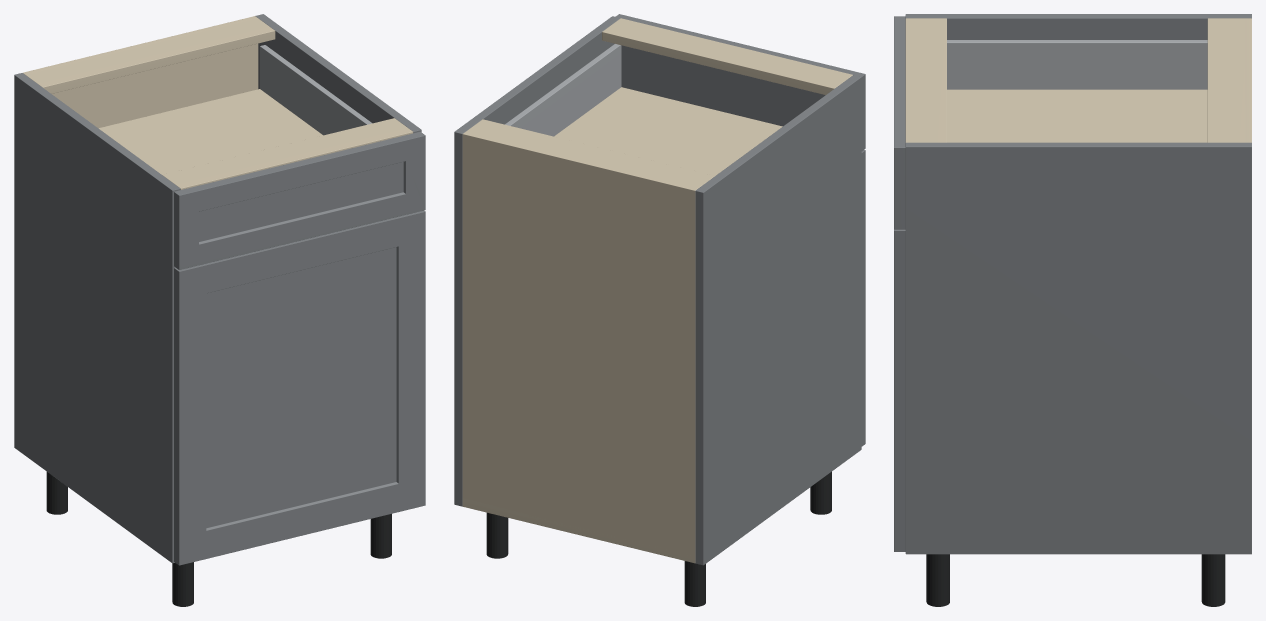
File: oppein-ply-gss-b21.glb
The picture shows the model from 3 angles, left to right: view 1: azimuth 30°, elevation 25°; view 2: azimuth 150°, elevation 25°; view 3: azimuth 270°, elevation 25°; orthographic projection. The views are drawn at different scales.
Parts seen in each view (by area): view 1: Door, Cabinet side, Drawer front, Drawer floor, Cabinet back, Top support rail, Top support rail.001, Drawer side.001, Cabinet side.001, Adjustable foot.001, Adjustable foot.003, Adjustable foot; view 2: Cabinet back, Cabinet side, Drawer floor, Drawer front, Cabinet side.001, Top support rail.001, Drawer side.001, Top support rail, Cabinet bottom, Door, Adjustable foot.002, Adjustable foot (+1 smaller); view 3: Cabinet side.001, Drawer floor, Drawer side, Cabinet side, Top support rail.001, Top support rail, Door, Drawer front, Adjustable foot.002, Adjustable foot.003, Cabinet back.
Part boxes in pixels (x1,y1,x2,y2): Door: (174,210,425,565); Cabinet side: (14,73,180,563); Drawer front: (174,131,425,269); Drawer floor: (99,89,322,174); Cabinet back: (23,16,258,128); Top support rail: (24,18,275,93); Top support rail.001: (162,118,413,189); Drawer side.001: (260,45,372,135); Cabinet side.001: (255,14,421,133); Adjustable foot.001: (172,562,193,606); Adjustable foot.003: (370,514,391,558); Adjustable foot: (46,472,67,514); Cabinet back: (462,132,697,562); Cabinet side: (695,75,861,565); Drawer floor: (554,87,782,175); Drawer front: (615,14,865,150); Cabinet side.001: (454,16,620,506); Top support rail.001: (602,18,852,94); Drawer side.001: (505,44,621,136); Top support rail: (466,119,714,188); Cabinet bottom: (462,498,694,563); Door: (861,150,865,446); Adjustable foot.002: (486,512,508,558); Adjustable foot: (684,561,705,606); Cabinet side.001: (905,142,1251,554); Drawer floor: (947,89,1207,142); Drawer side: (947,40,1207,89); Cabinet side: (905,14,1251,39); Top support rail.001: (905,18,946,142); Top support rail: (1207,18,1245,142); Door: (894,229,905,551); Drawer front: (894,16,905,229); Adjustable foot.002: (1201,554,1225,606); Adjustable foot.003: (926,554,949,606); Cabinet back: (1245,18,1251,142).
Bounding box in the file's own units: 0.5334 × 0.8763 × 0.6064.
